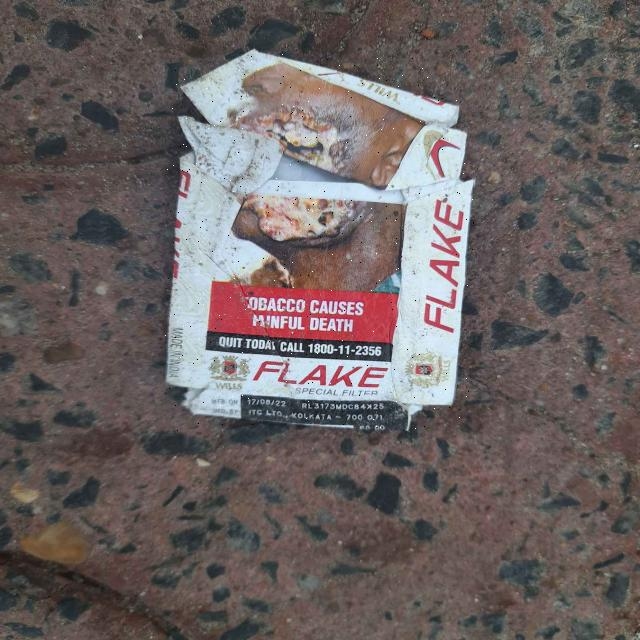paper: (166, 51, 474, 431)
